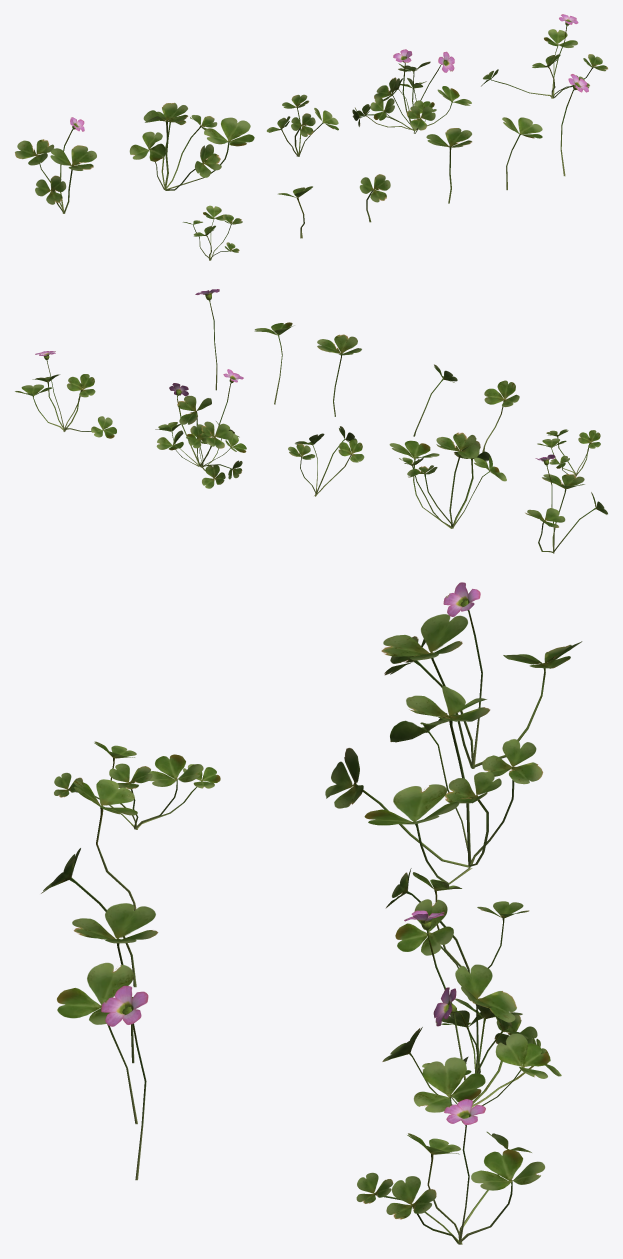
File: shrub_sorrel_01.glb
The picture shows the model from 3 angles, top to bottom: view 1: azimuth 30°, elevation 25°; view 2: azimuth 150°, elevation 25°; view 3: azimuth 270°, elevation 25°; orthographic projection. The views are drawn at different scales.
Visible parts, largest first — view 1: shrub_sorrel_01_b, shrub_sorrel_01_d, shrub_sorrel_01_a, shrub_sorrel_01_e, shrub_sorrel_01_c, shrub_sorrel_01_f, shrub_sorrel_01_i, shrub_sorrel_01_h, shrub_sorrel_01_j, shrub_sorrel_01_k; view 2: shrub_sorrel_01_d, shrub_sorrel_01_b, shrub_sorrel_01_e, shrub_sorrel_01_a, shrub_sorrel_01_c, shrub_sorrel_01_f, shrub_sorrel_01_i, shrub_sorrel_01_g, shrub_sorrel_01_j; view 3: shrub_sorrel_01_b, shrub_sorrel_01_d, shrub_sorrel_01_e, shrub_sorrel_01_a, shrub_sorrel_01_f, shrub_sorrel_01_c, shrub_sorrel_01_j, shrub_sorrel_01_i, shrub_sorrel_01_k, shrub_sorrel_01_g.
Part boxes in pixels (<box>): shrub_sorrel_01_b: <box>129,102,254,190</box>; shrub_sorrel_01_d: <box>352,49,471,133</box>; shrub_sorrel_01_a: <box>15,117,96,213</box>; shrub_sorrel_01_e: <box>481,14,607,98</box>; shrub_sorrel_01_c: <box>267,94,338,156</box>; shrub_sorrel_01_f: <box>183,205,242,260</box>; shrub_sorrel_01_i: <box>426,128,472,203</box>; shrub_sorrel_01_h: <box>359,174,390,222</box>; shrub_sorrel_01_j: <box>502,117,542,190</box>; shrub_sorrel_01_k: <box>560,74,588,176</box>; shrub_sorrel_01_d: <box>155,369,246,488</box>; shrub_sorrel_01_b: <box>389,432,506,528</box>; shrub_sorrel_01_e: <box>15,351,116,438</box>; shrub_sorrel_01_a: <box>525,454,607,553</box>; shrub_sorrel_01_c: <box>288,426,364,496</box>; shrub_sorrel_01_f: <box>537,429,600,476</box>; shrub_sorrel_01_i: <box>317,334,361,416</box>; shrub_sorrel_01_g: <box>482,380,519,452</box>; shrub_sorrel_01_j: <box>254,322,294,404</box>; shrub_sorrel_01_b: <box>325,686,542,884</box>; shrub_sorrel_01_d: <box>382,910,561,1112</box>; shrub_sorrel_01_e: <box>356,1099,545,1244</box>; shrub_sorrel_01_a: <box>381,582,582,768</box>; shrub_sorrel_01_f: <box>54,741,220,829</box>; shrub_sorrel_01_c: <box>385,868,529,973</box>; shrub_sorrel_01_j: <box>57,962,137,1124</box>; shrub_sorrel_01_i: <box>72,903,158,1063</box>; shrub_sorrel_01_k: <box>101,985,148,1180</box>; shrub_sorrel_01_g: <box>73,779,137,910</box>.
Bounding box in the file's own units: 0.3521 × 0.058 × 0.1464.
Materials: 1 (1 with a texture image).
